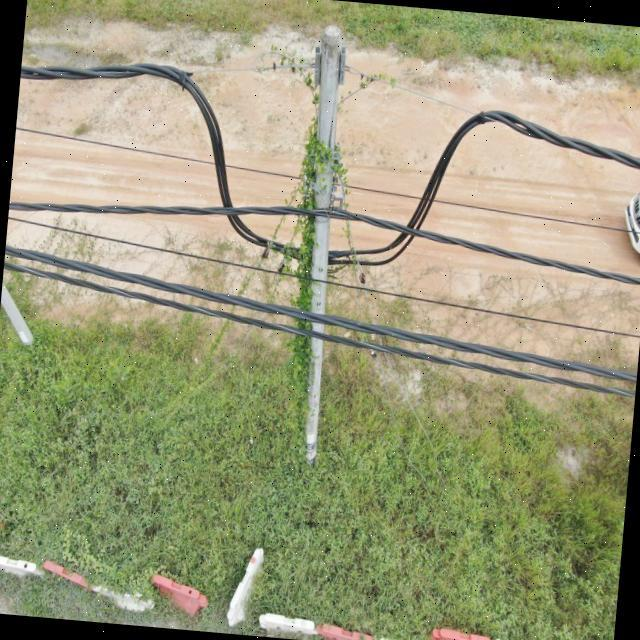critical vegetation: (174, 28, 428, 437)
